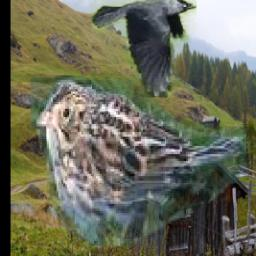Crow: (91, 0, 197, 98)
Sparrow: (32, 75, 247, 247)
